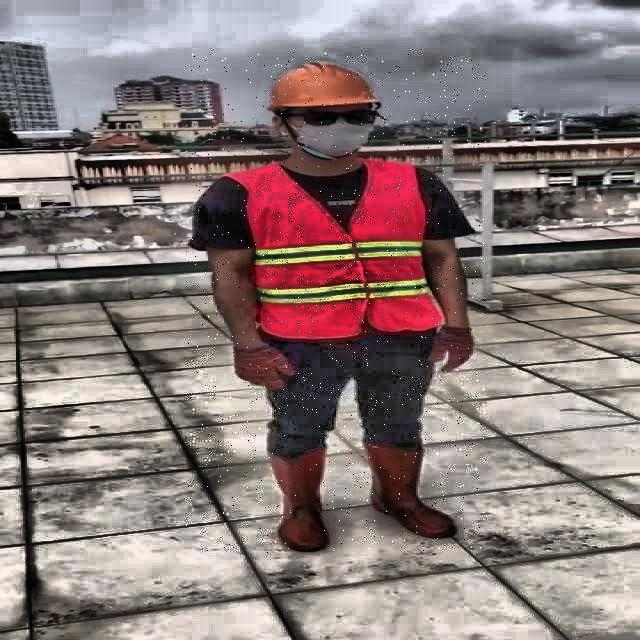safety_helmet: (260, 56, 388, 111)
safety_jacket: (244, 162, 434, 339)
